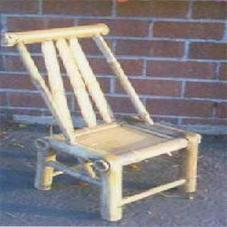chair: (0, 24, 214, 209)
